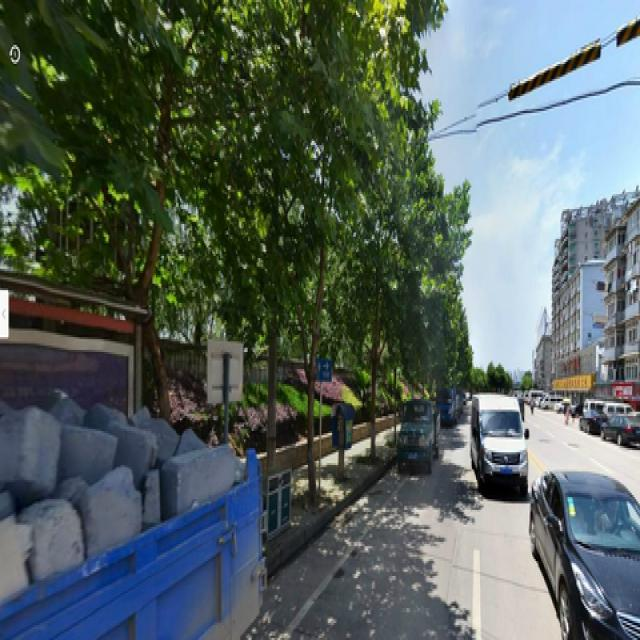meta: (279, 41, 344, 484), (352, 96, 408, 463)
